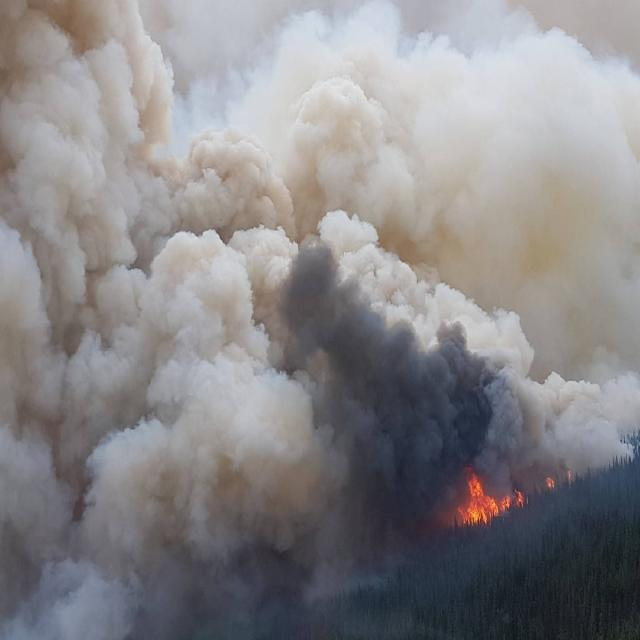Fire: (439, 458, 585, 543)
